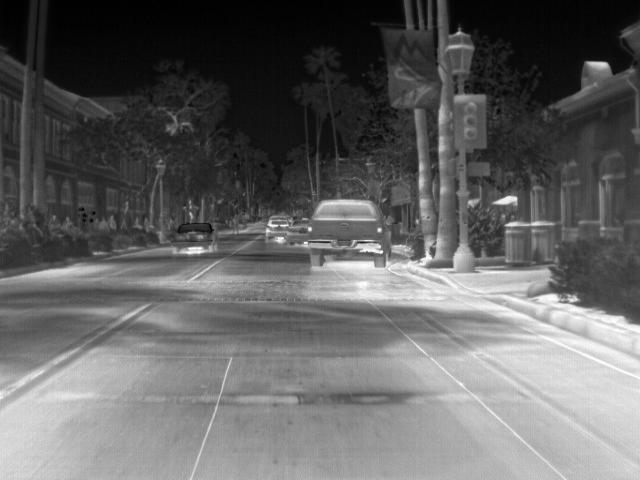car: (305, 197, 395, 267), (170, 219, 220, 255), (265, 213, 295, 244), (287, 218, 310, 248)
person: (106, 213, 118, 232), (97, 218, 111, 234), (61, 214, 76, 228), (49, 214, 62, 228)
